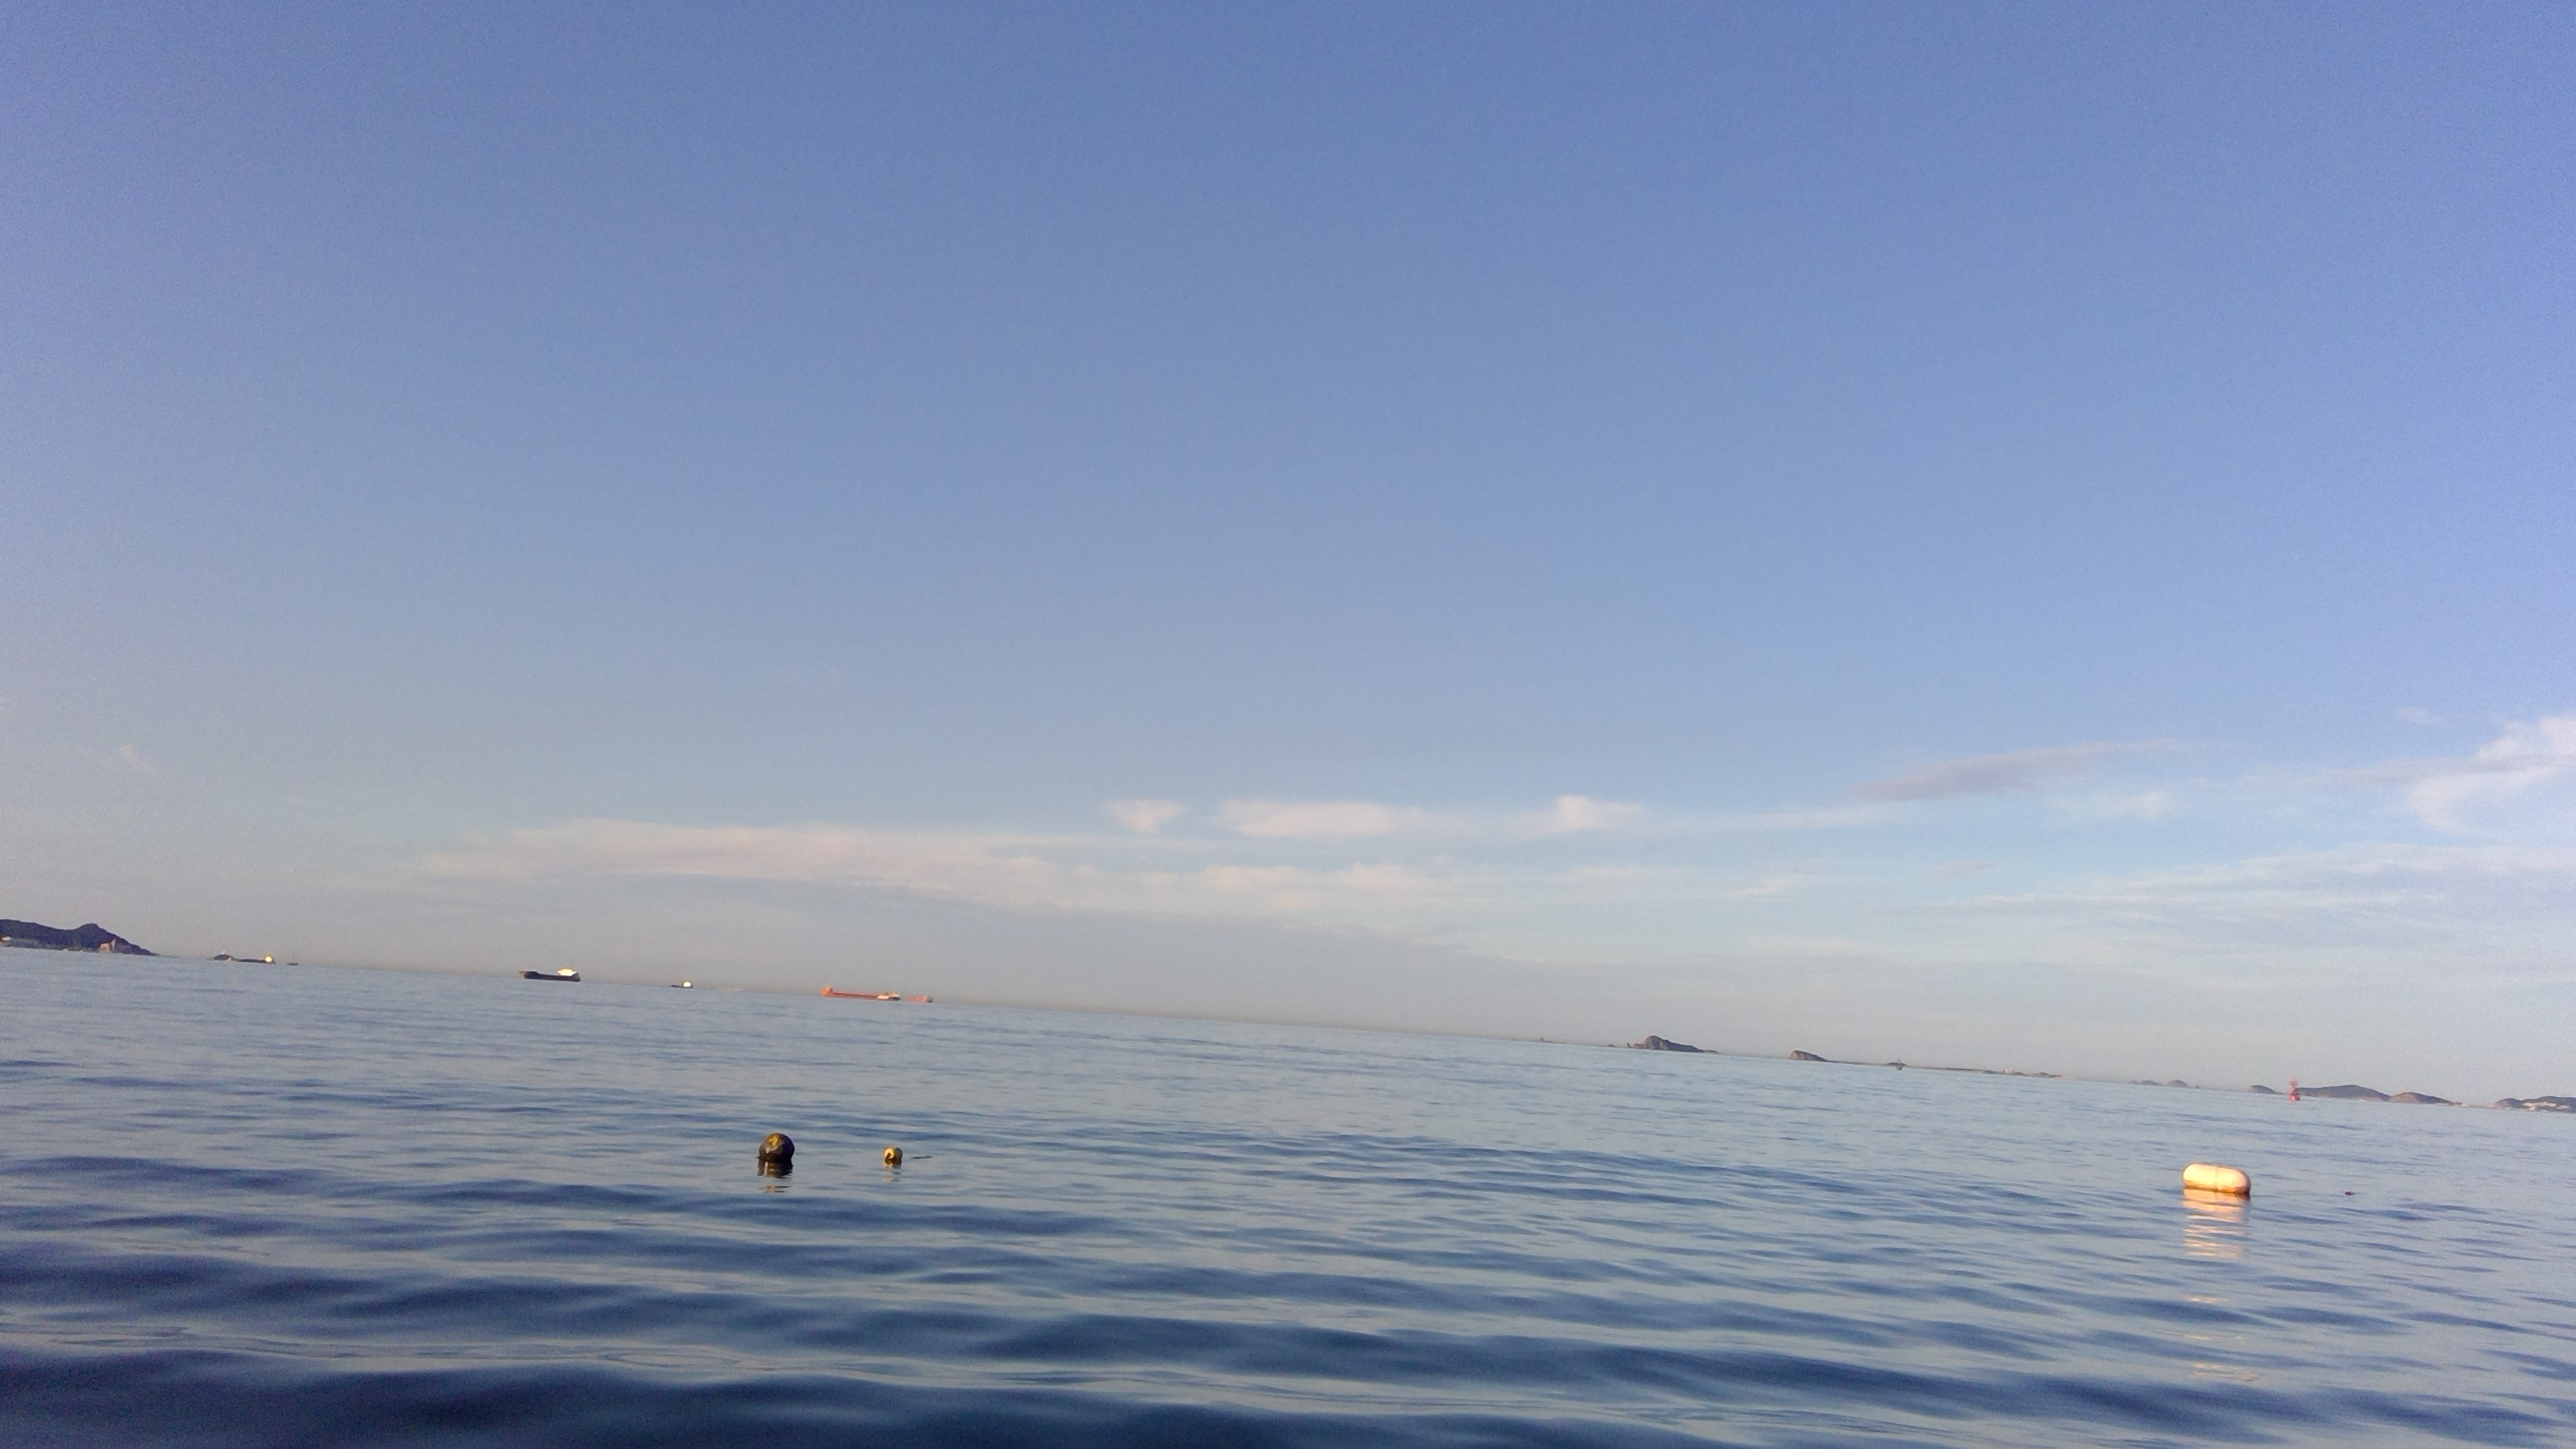ball: (747, 1120, 803, 1187), (879, 1136, 920, 1171)
buoy: (2286, 1079, 2305, 1109)
platform: (803, 975, 952, 1014)
rock: (2259, 1062, 2449, 1113), (0, 897, 156, 954), (2167, 1154, 2259, 1215), (2493, 1072, 2576, 1122), (1629, 1024, 1704, 1058), (1792, 1040, 1829, 1067)
ship: (511, 962, 586, 991)
